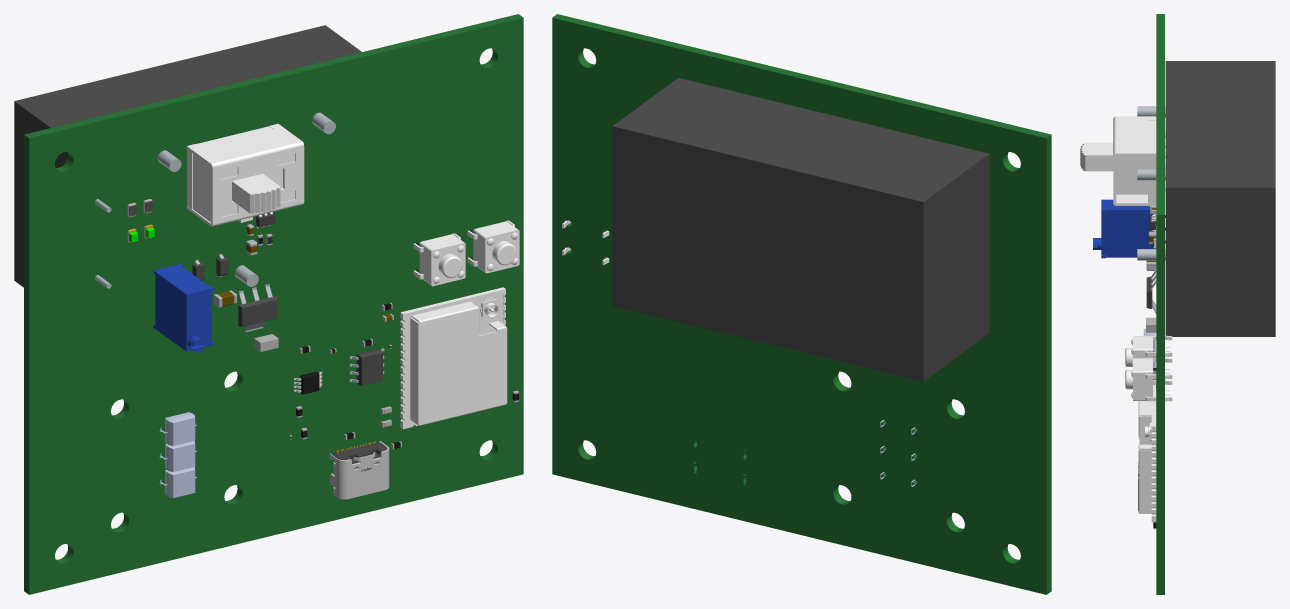
Rendered from timing_gates.glb.
The picture shows the model from 3 angles, left to right: view 1: azimuth 30°, elevation 25°; view 2: azimuth 150°, elevation 25°; view 3: azimuth 270°, elevation 25°; orthographic projection. The views are drawn at different scales.
Parts seen in each view (by area): view 1: empty_2, empty_225, empty_19, empty_74, empty_75, empty_18, empty_218, empty_161, empty_17, empty_20, empty_298, empty_50 (+2 smaller); view 2: empty_2, empty_225; view 3: empty_225, empty_2, empty_74, empty_75, empty_19, empty_161, empty_18, empty_17.
Boxes of the visible parts, <box> form: empty_2: <box>24,14,523,594</box>; empty_225: <box>14,25,361,287</box>; empty_19: <box>410,301,507,425</box>; empty_74: <box>186,123,304,226</box>; empty_75: <box>153,264,214,352</box>; empty_18: <box>400,287,505,429</box>; empty_218: <box>329,441,389,499</box>; empty_161: <box>467,220,519,273</box>; empty_17: <box>413,233,465,286</box>; empty_20: <box>238,296,277,326</box>; empty_298: <box>165,412,195,445</box>; empty_50: <box>356,349,382,385</box>; empty_2: <box>552,14,1051,594</box>; empty_225: <box>612,78,989,381</box>; empty_225: <box>1165,61,1275,336</box>; empty_2: <box>1156,14,1164,594</box>; empty_74: <box>1080,116,1165,205</box>; empty_75: <box>1093,199,1165,258</box>; empty_19: <box>1138,401,1151,513</box>; empty_161: <box>1125,358,1172,401</box>; empty_18: <box>1145,385,1156,522</box>; empty_17: <box>1125,335,1172,379</box>.
Bounding box in the file's own units: 86.36 × 76.2 × 35.47.
